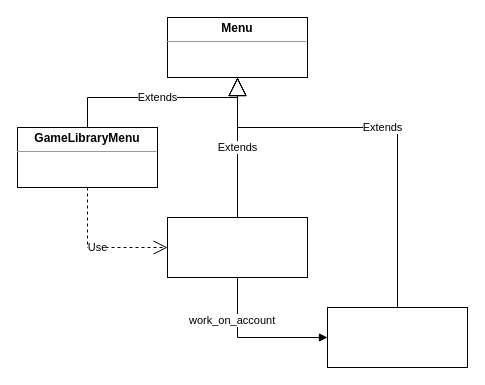
This 485x385 diagram has some shape labels left out. Here are the shapes that lost their labels. From the top down, the centre of each, then its label:
At pixel 237 247: "ManageAccountMenu".
At pixel 397 337: "EditAccountMenu".
